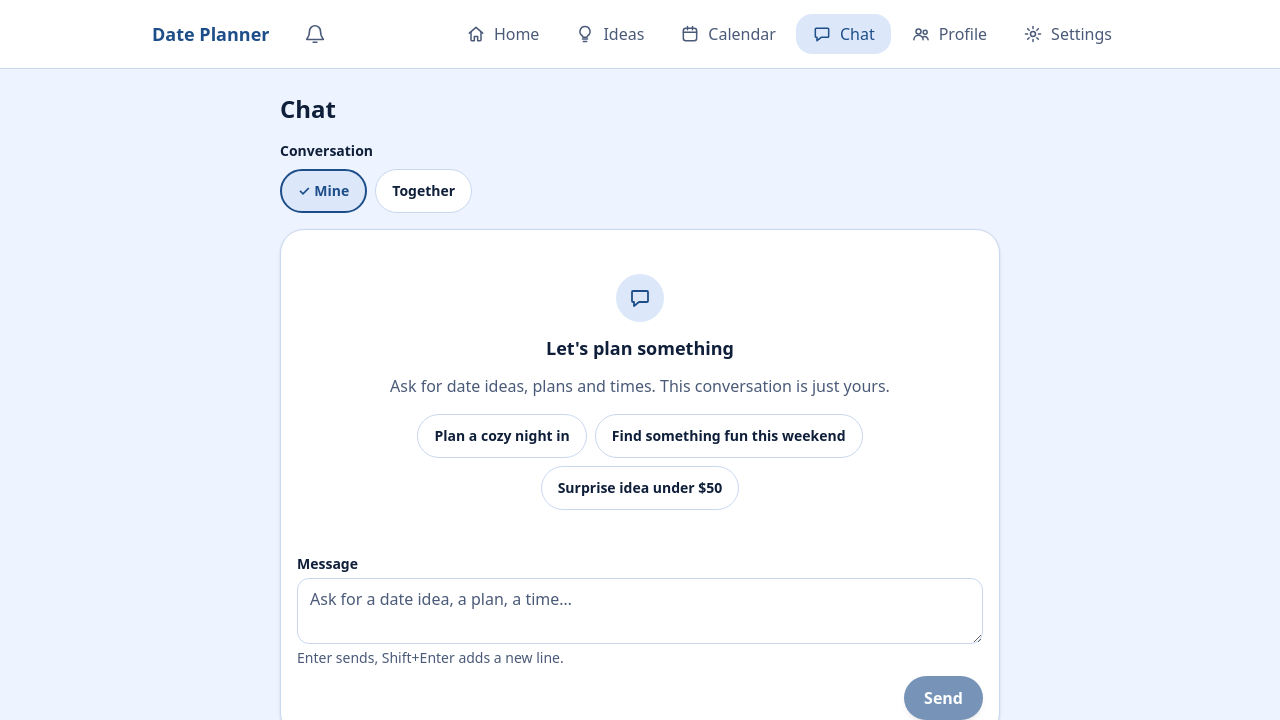
Scenario: ChatPage empty state and threads › switches to the shared thread, naming and colouring each author
Click the button "Together". click: {"x": 424, "y": 191}
box: [375,169,472,213]
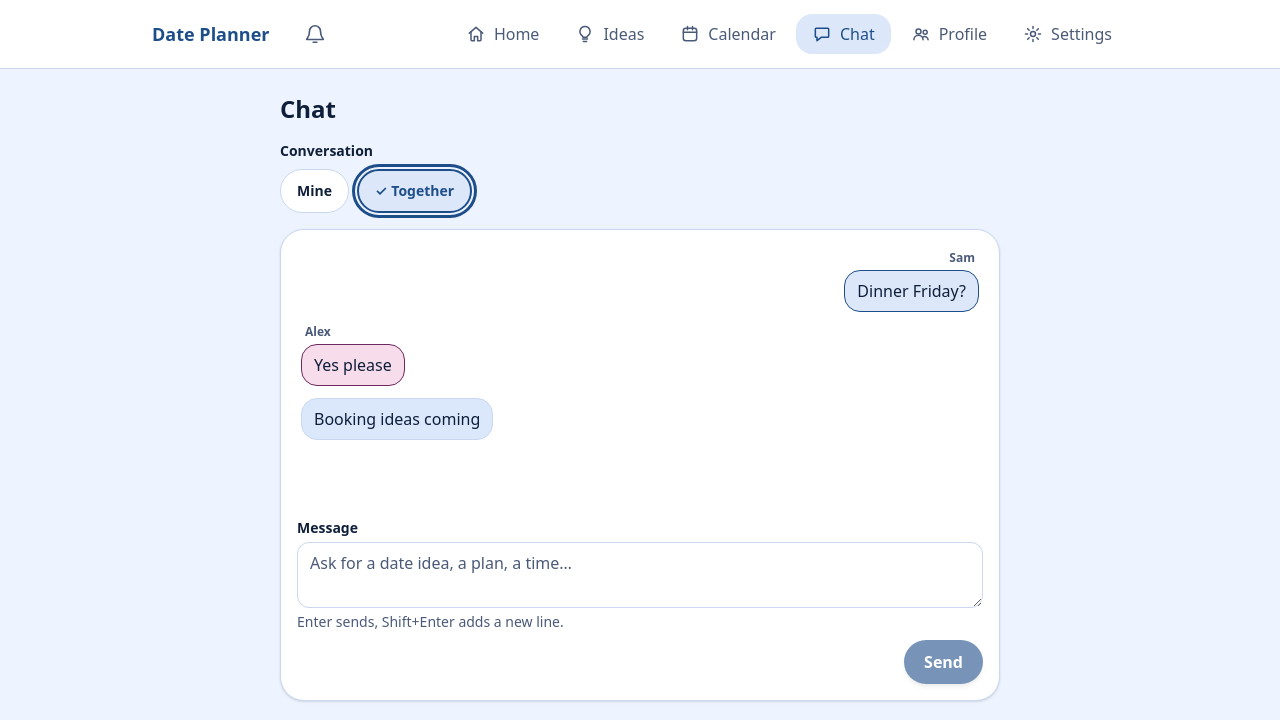
expect the text "Sam" is shown: met, box [949,249,975,266]
expect the text "Alex" is shown: met, box [305,323,331,340]
